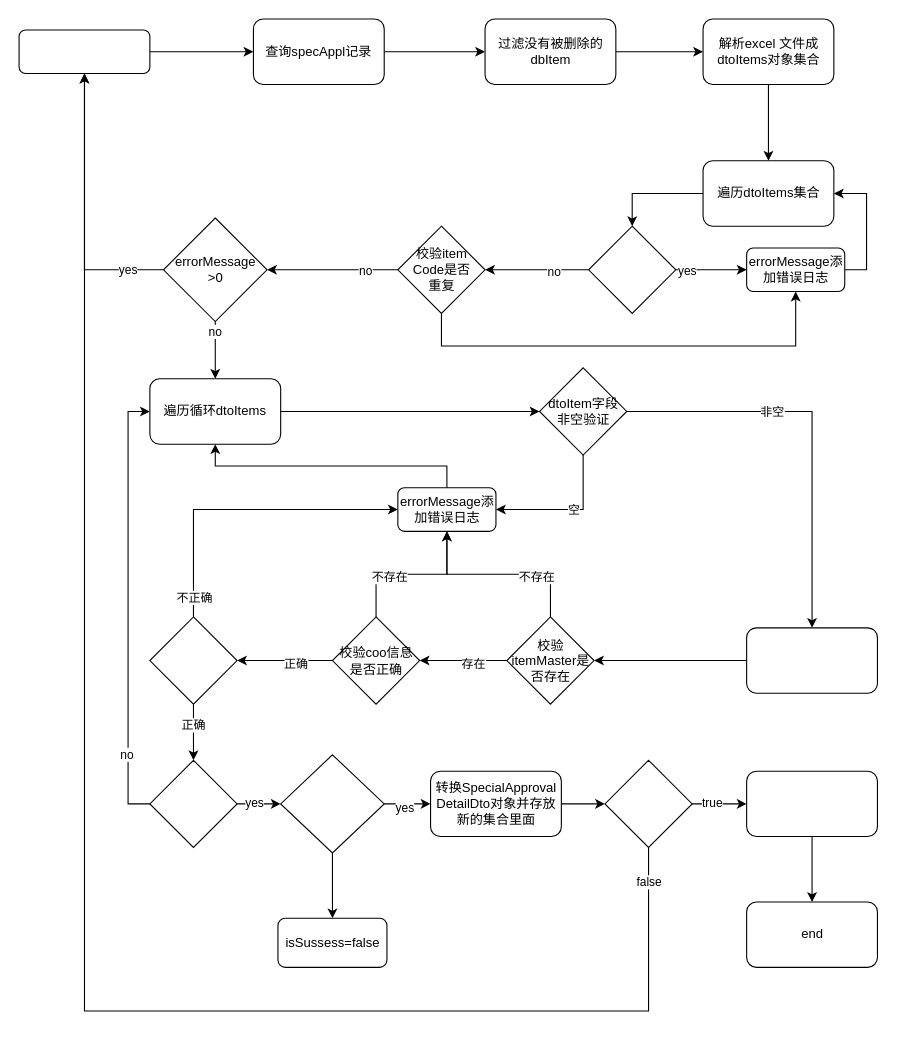
Image size: 897x1039. Some labels were removed from this diagram. Here are the shapes that lost their labels. From the top down, the centre of each, then its label:
At (x=84, y=51): "开始".
At (x=632, y=269): "校验seq是否 重复".
At (x=193, y=660): "校验uom 是否正确".
At (x=811, y=660): "dtoItem的itemCode查询itemMaster".
At (x=193, y=803): "检查是否 最后一条记录".
At (x=332, y=803): "errorMessage <0".
At (x=648, y=803): "isSussess".
At (x=811, y=803): "保存上传的execl 到db 获取 excelUploadId".
